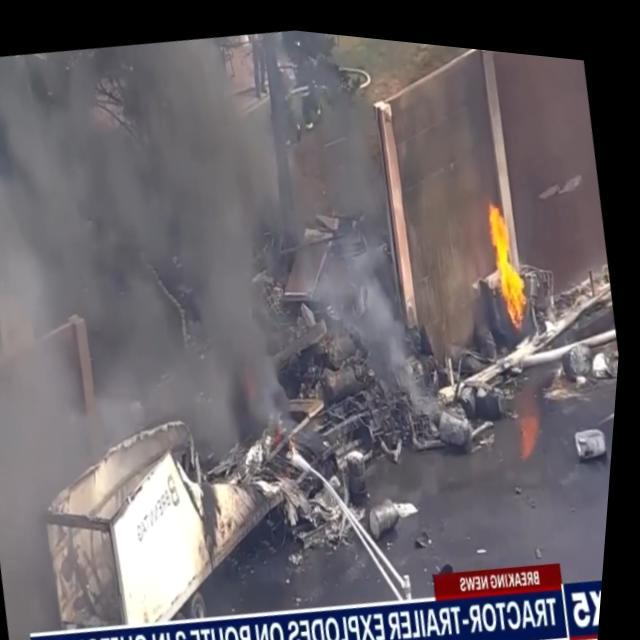fire: (475, 187, 543, 325)
